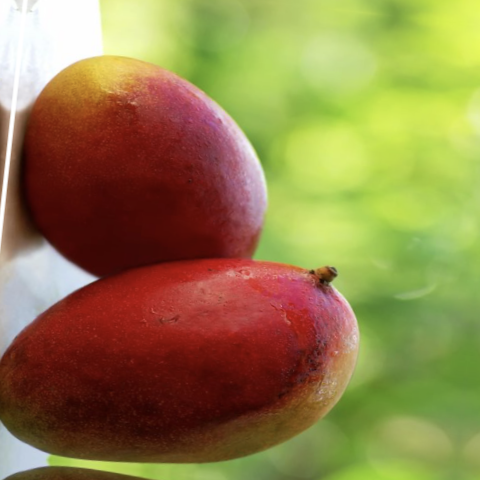mango: (0, 204, 375, 480), (0, 24, 287, 327)
